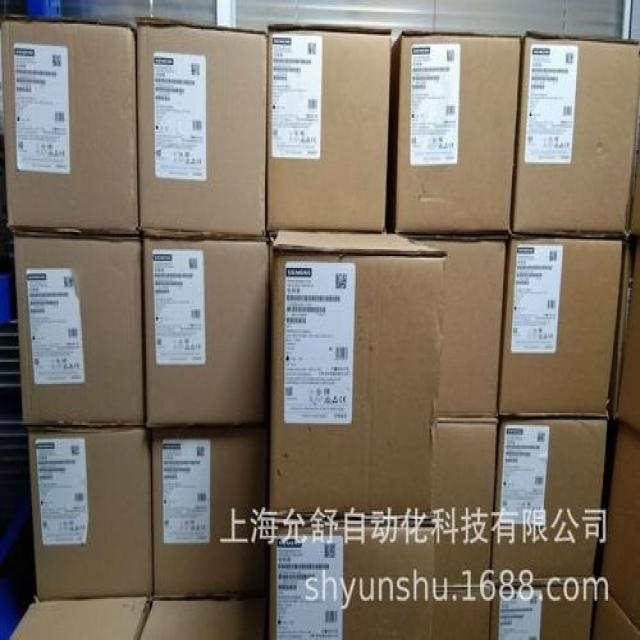box: (270, 230, 447, 526), (137, 19, 268, 237), (387, 33, 520, 239), (512, 32, 639, 239), (14, 231, 144, 427), (267, 26, 390, 232), (142, 236, 269, 427), (502, 240, 630, 417), (32, 430, 153, 599), (154, 423, 270, 598), (266, 524, 436, 638), (493, 420, 607, 583), (409, 236, 507, 420), (432, 420, 500, 589), (598, 419, 639, 628), (9, 597, 152, 638), (492, 583, 595, 638), (141, 597, 267, 638), (617, 258, 639, 430), (434, 587, 492, 637), (594, 582, 639, 638), (629, 65, 639, 241)
